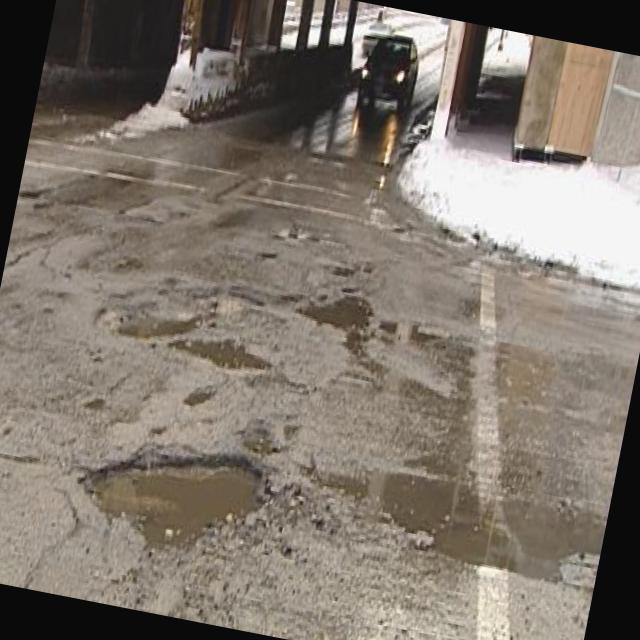Lubang: (370, 471, 603, 589), (85, 447, 265, 546), (97, 303, 202, 337), (169, 339, 270, 366), (299, 295, 373, 329)
